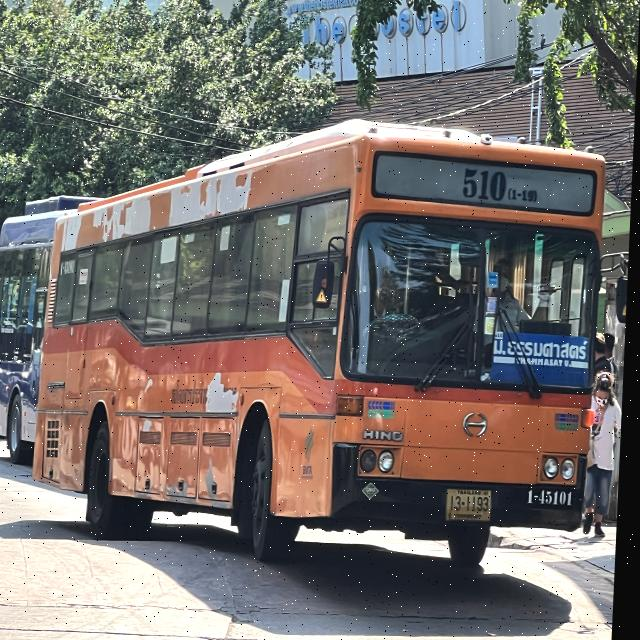BMTA-bus: (31, 121, 635, 570)
Bus-Line-Number: (458, 159, 545, 211)
Destination-Sign-Normal: (494, 331, 595, 388)
TSB-Bus: (0, 199, 57, 455)
